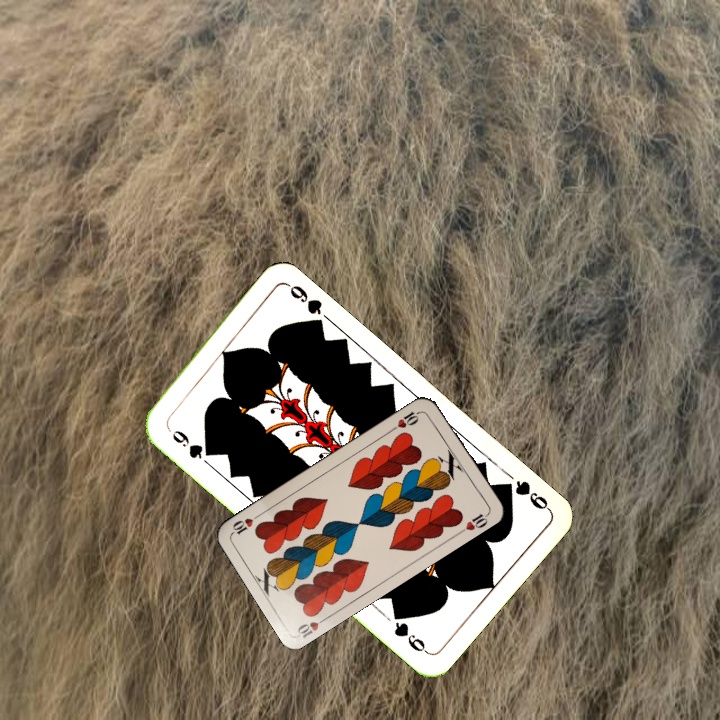G9: (497, 475, 553, 513), (168, 425, 215, 462)
H10: (293, 612, 332, 641), (388, 407, 424, 433)
